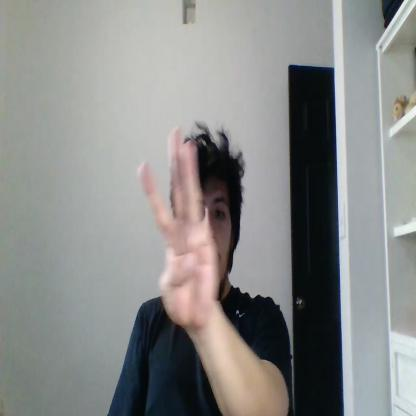W: (138, 126, 219, 328)
